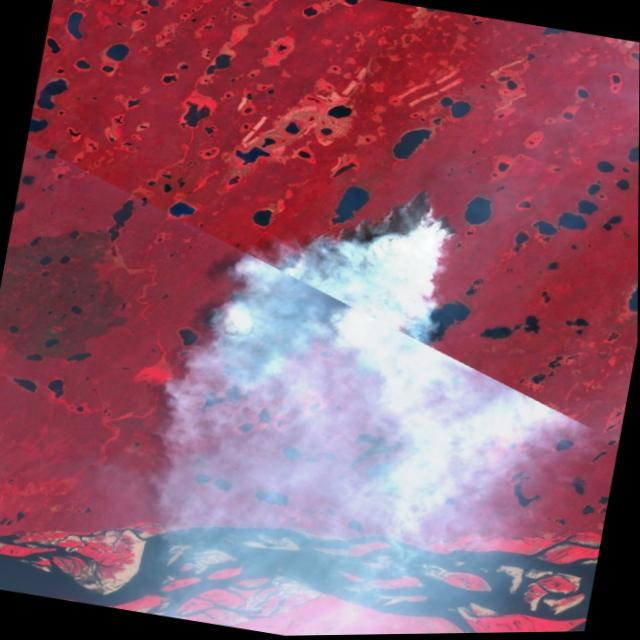fire: (200, 155, 466, 430)
